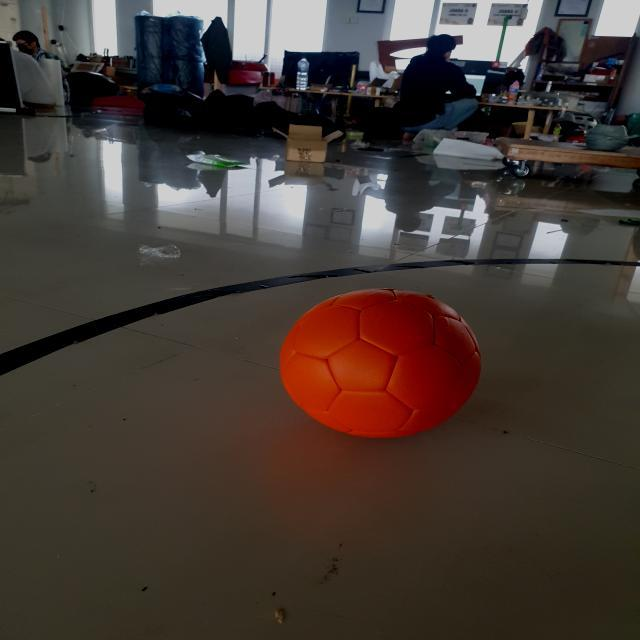bola: (274, 284, 484, 449)
